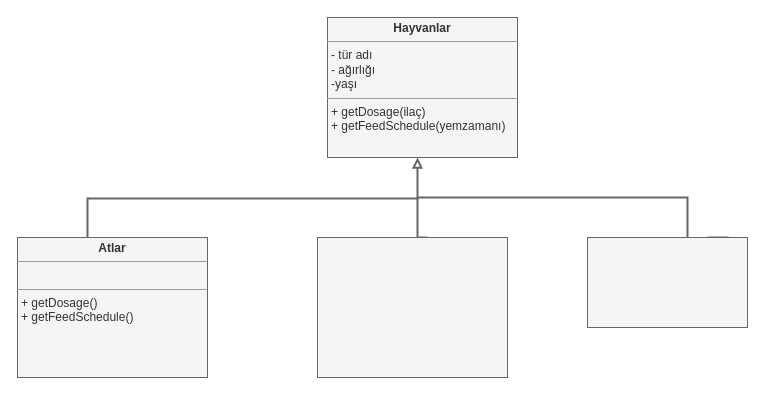
Image size: 765x395. Some labels were removed from this diagram. The box of each missing label's shape, as (x1, y1, x2, y2) in pixels:
Kedigilller + getDosage() + getFeedScedule(): (316, 236, 508, 378)
Kemirgenler + getDosage() +getFeedSchedule(): (586, 236, 748, 328)
